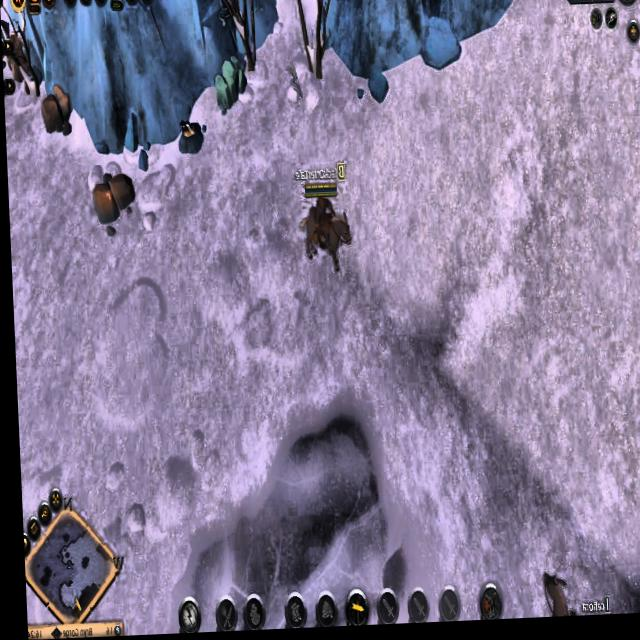copperore: (175, 117, 203, 159)
limestone: (89, 171, 134, 231), (38, 80, 74, 136)
sandstone: (212, 58, 248, 120)
